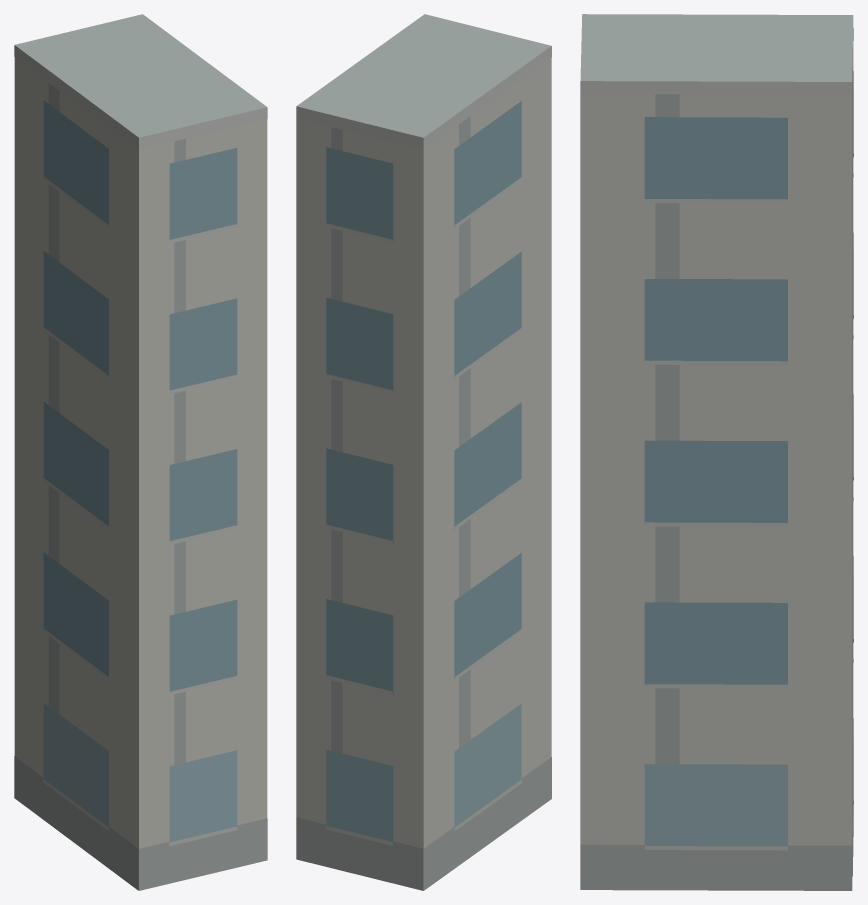
Rendered from survey-upis-32805025.glb.
3 renders of one model, left to right at view 1: azimuth 30°, elevation 25°; view 2: azimuth 150°, elevation 25°; view 3: azimuth 270°, elevation 25°, orthographic. The views are drawn at different scales.
Parts seen in each view (by area): view 1: survey-upis-32805025.tmp; view 2: survey-upis-32805025.tmp; view 3: survey-upis-32805025.tmp.
Part boxes in pixels (left/top/right/bottom): survey-upis-32805025.tmp: left=14, top=14, right=267, bottom=890; survey-upis-32805025.tmp: left=296, top=14, right=551, bottom=890; survey-upis-32805025.tmp: left=580, top=14, right=853, bottom=890.
Bounding box in the file's own units: 2.76 × 15.25 × 4.68.
